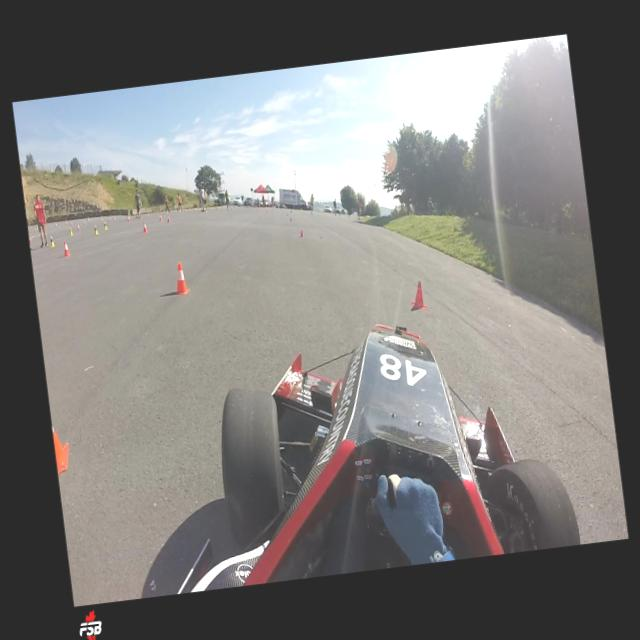orange_cone: (48, 394, 72, 474), (172, 260, 190, 295), (407, 278, 426, 311), (62, 240, 70, 256), (142, 220, 148, 232), (298, 228, 304, 238), (69, 227, 74, 236), (76, 223, 80, 231), (166, 214, 170, 222), (29, 234, 32, 244), (127, 214, 130, 222), (158, 213, 161, 220), (83, 219, 86, 225), (34, 226, 36, 232)
yellow_cone: (49, 234, 55, 247), (69, 226, 74, 235), (103, 221, 108, 230), (94, 224, 98, 235)
